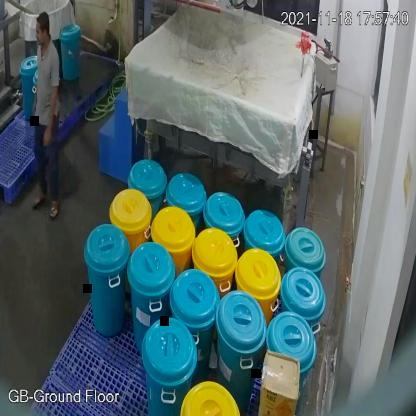no_shoes: (48, 199, 60, 221)
